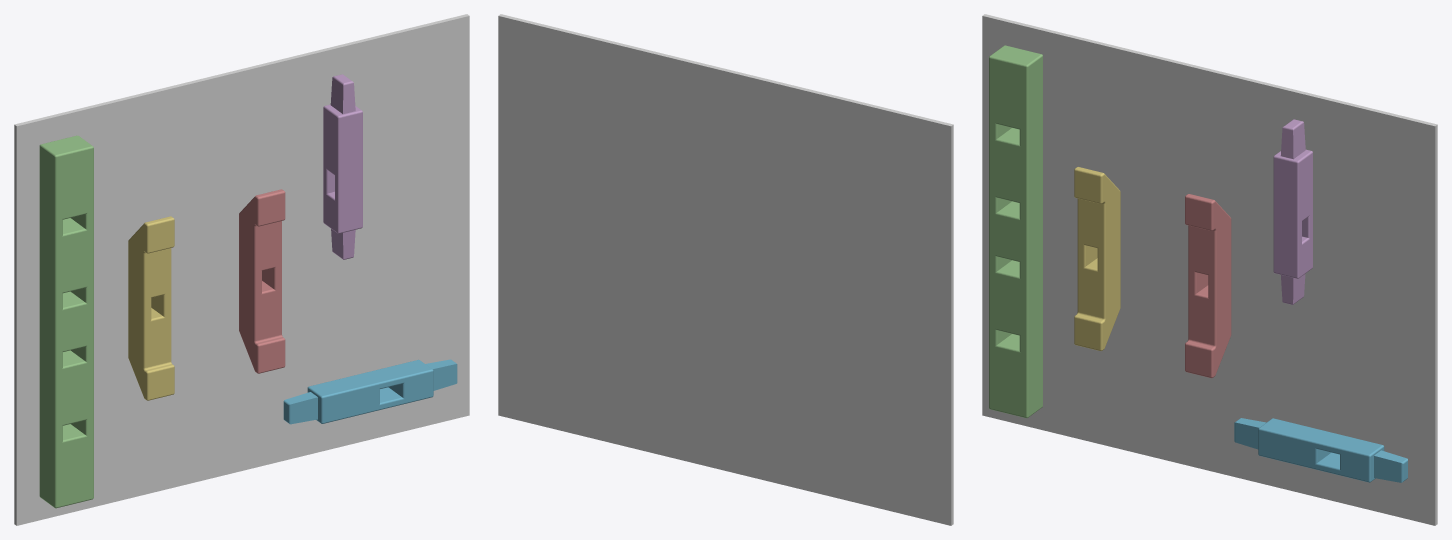
The model's file is pickup_layout.glb.
3 renders of one model, left to right at view 1: azimuth 30°, elevation 25°; view 2: azimuth 150°, elevation 25°; view 3: azimuth 330°, elevation 25°, orthographic.
Visible parts, largest first — view 1: world, 6.obj, 1.obj, 0.obj, 2.obj, 3.obj; view 2: world; view 3: world, 6.obj, 1.obj, 0.obj, 2.obj, 3.obj.
Part boxes in pixels (x1,y1,x2,y2): world: (14,14,469,525); 6.obj: (39,135,93,508); 1.obj: (128,216,174,400); 0.obj: (239,189,285,373); 2.obj: (283,359,457,424); 3.obj: (323,74,362,259); world: (498,14,953,525); world: (982,14,1437,525); 6.obj: (989,45,1042,418); 1.obj: (1074,167,1120,350); 0.obj: (1185,194,1231,378); 2.obj: (1234,418,1407,482); 3.obj: (1273,119,1312,304).
Bounding box in the file's own units: 20.45 × 17.24 × 1.72.
